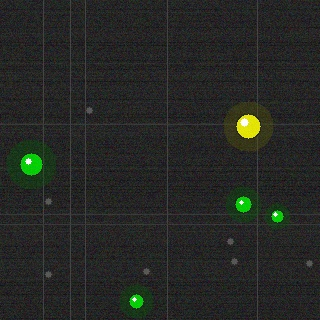green_normal: (18, 151, 44, 177), (233, 194, 253, 214), (127, 292, 145, 310), (269, 208, 285, 224)
yellow_warning: (234, 112, 262, 140)
